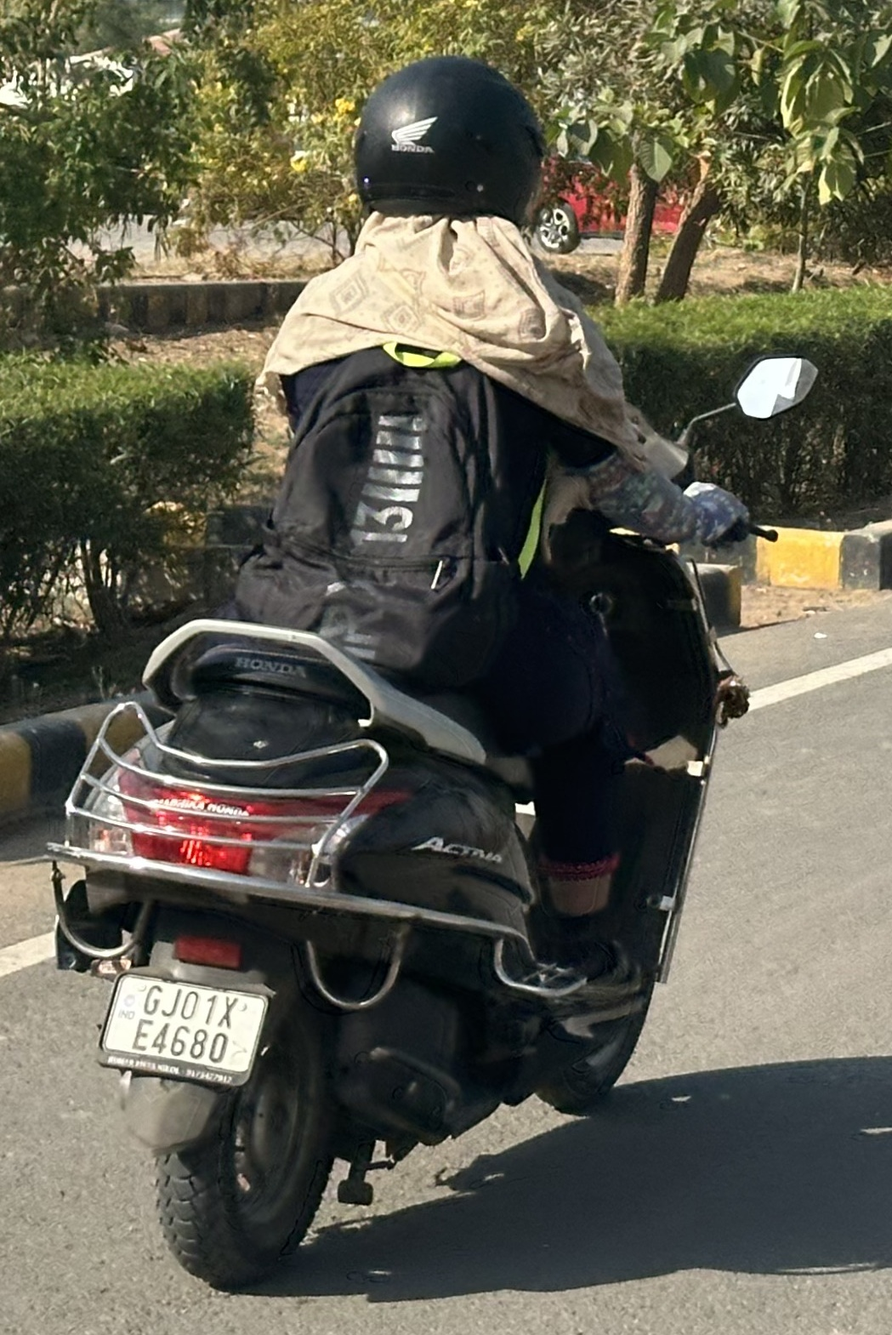BikeWithRider: (29, 40, 832, 1303)
Helmet: (332, 43, 563, 247)
